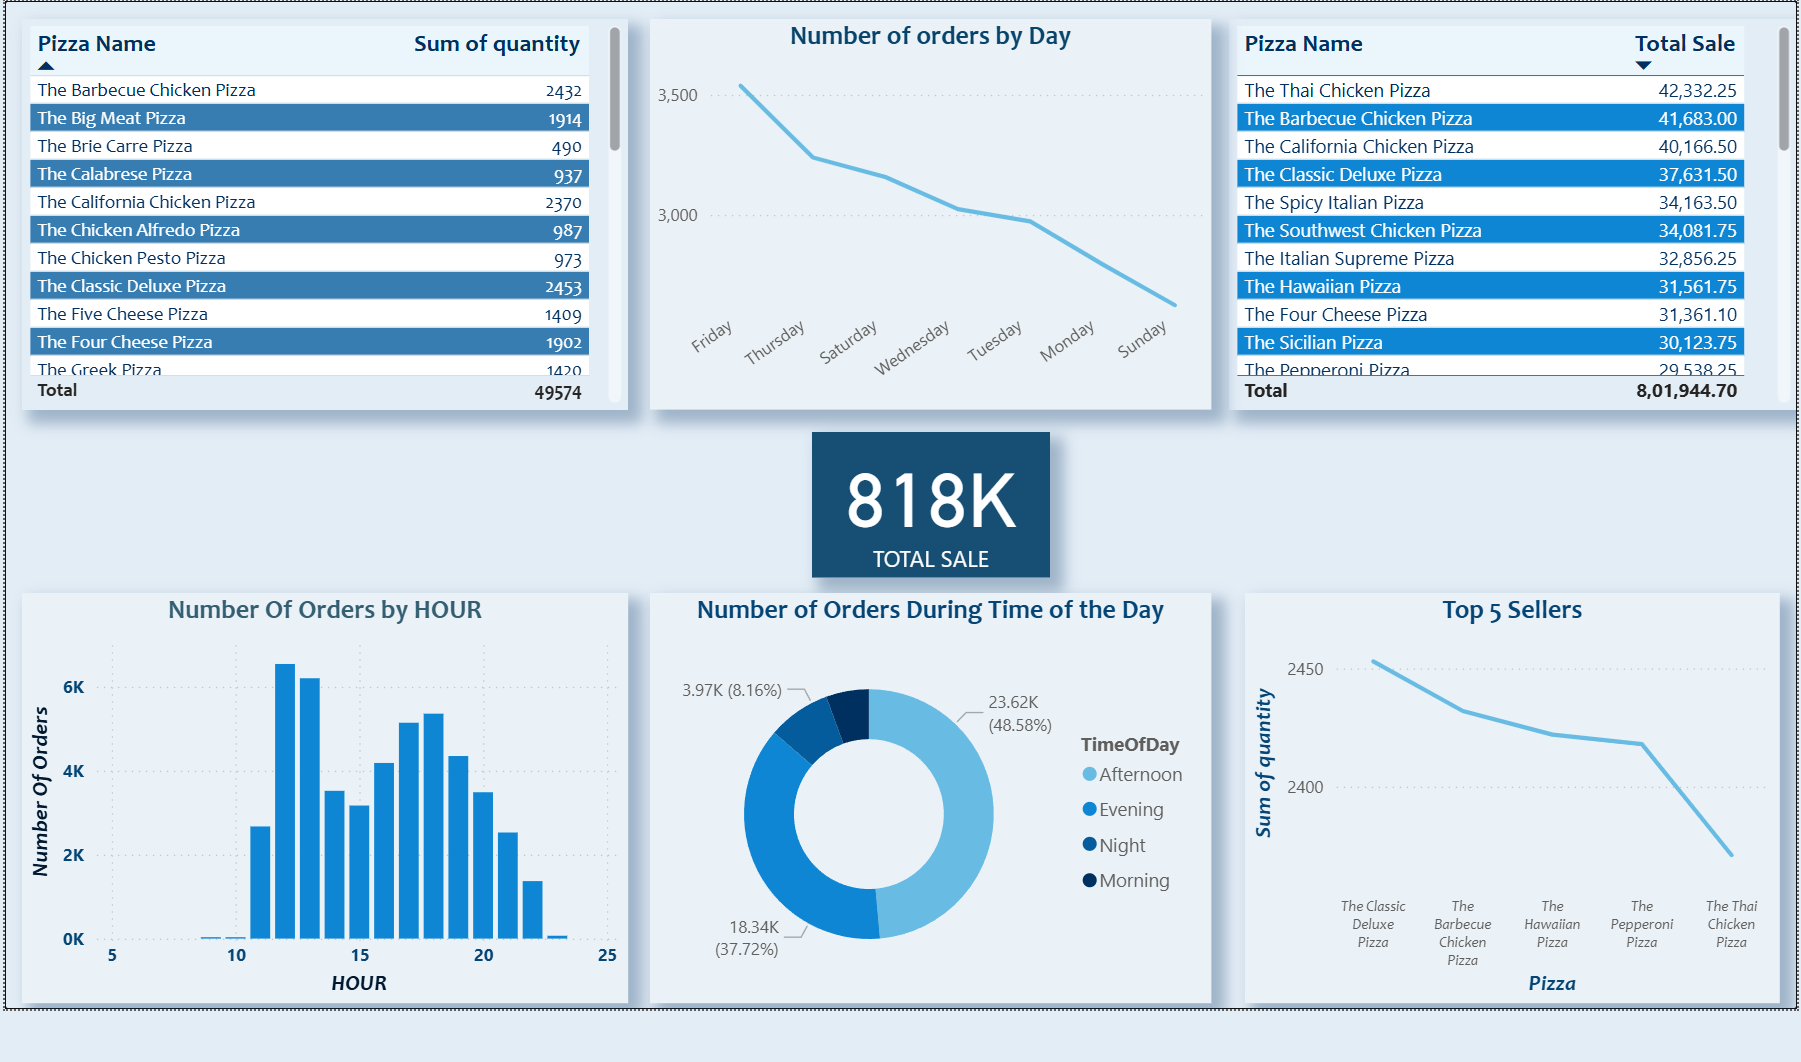

This screenshot's page, from the dashboard's own definition file:
{"tool":"powerbi","page":{"name":"Page 1","canvas":[1280,720],"ordinal":0},"visuals":[{"type":"tableEx","fields":{"Values":["order_details.pizzas.pizza_types.name","Sum(order_details.quantity)"]},"box":[12.1,12.9,432.9,278.6],"z":0},{"type":"tableEx","fields":{"Values":["order_details.pizzas.pizza_types.name","Sum(order_details.pizzas.price)"]},"box":[874.3,12.9,405.7,278.6],"z":1000},{"type":"columnChart","fields":{"Category":["order_details.Hour"],"Y":["CountNonNull(order_details.order_id)"]},"box":[12.1,422.9,432.9,292.9],"z":2000},{"type":"lineChart","fields":{"Category":["orders.Day Name"],"Y":["CountNonNull(orders.order_id)"]},"box":[460.7,12.9,400.7,278.6],"z":3000},{"type":"card","fields":{"Values":["order_details.Total Sale"]},"box":[576.4,307.9,170,104.3],"z":4000},{"type":"donutChart","title":"Number of Orders During Time of the Day","fields":{"Category":["order_details.TimeOfDay"],"Y":["CountNonNull(order_details.order_id)"]},"box":[460.7,422.9,400.7,292.9],"z":5000},{"type":"lineChart","title":"Top 5 Sellers","fields":{"Category":["order_details.pizzas.pizza_types.name"],"Y":["Sum(order_details.quantity)"]},"box":[885.7,422.9,382.1,292.9],"z":6000}]}

Visuals, with their boxes on the page's 1280x720 design canvas (x1, y1, x2, y2). These are canvas units, not pixel positions in the 1801x1062 screenshot, which may show the page scaled, cropped or inside an application window:
tableEx - order_details.pizzas.pizza_types.name x Sum(order_details.quantity): select_region(12, 13, 445, 292)
tableEx - order_details.pizzas.pizza_types.name x Sum(order_details.pizzas.price): select_region(874, 13, 1280, 292)
columnChart - order_details.Hour x CountNonNull(order_details.order_id): select_region(12, 423, 445, 716)
lineChart - orders.Day Name x CountNonNull(orders.order_id): select_region(461, 13, 861, 292)
card - order_details.Total Sale: select_region(576, 308, 746, 412)
"Number of Orders During Time of the Day" donutChart: select_region(461, 423, 861, 716)
"Top 5 Sellers" lineChart: select_region(886, 423, 1268, 716)
